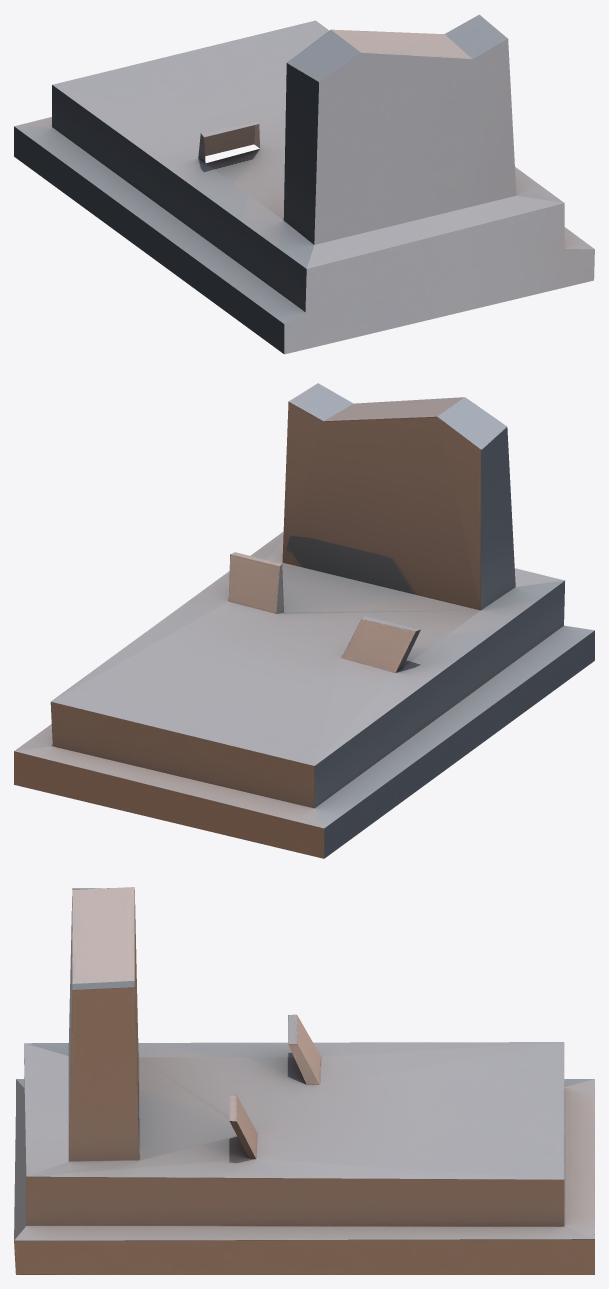
File: 01mid.glb
3 views of the same model, one above another, from view 1: azimuth 30°, elevation 25°; view 2: azimuth 150°, elevation 25°; view 3: azimuth 270°, elevation 25° (orthographic). The views are drawn at different scales.
Parts seen in each view (by area): view 1: Tombe1 mid; view 2: Tombe1 mid; view 3: Tombe1 mid.
Boxes of the visible parts, <box> form: Tombe1 mid: <box>14,14,594,354</box>; Tombe1 mid: <box>14,383,594,858</box>; Tombe1 mid: <box>14,887,594,1274</box>.
Size of the model in its own units: 1.41 by 1.14 by 2.14.
Materials: 1 (1 with a texture image).
